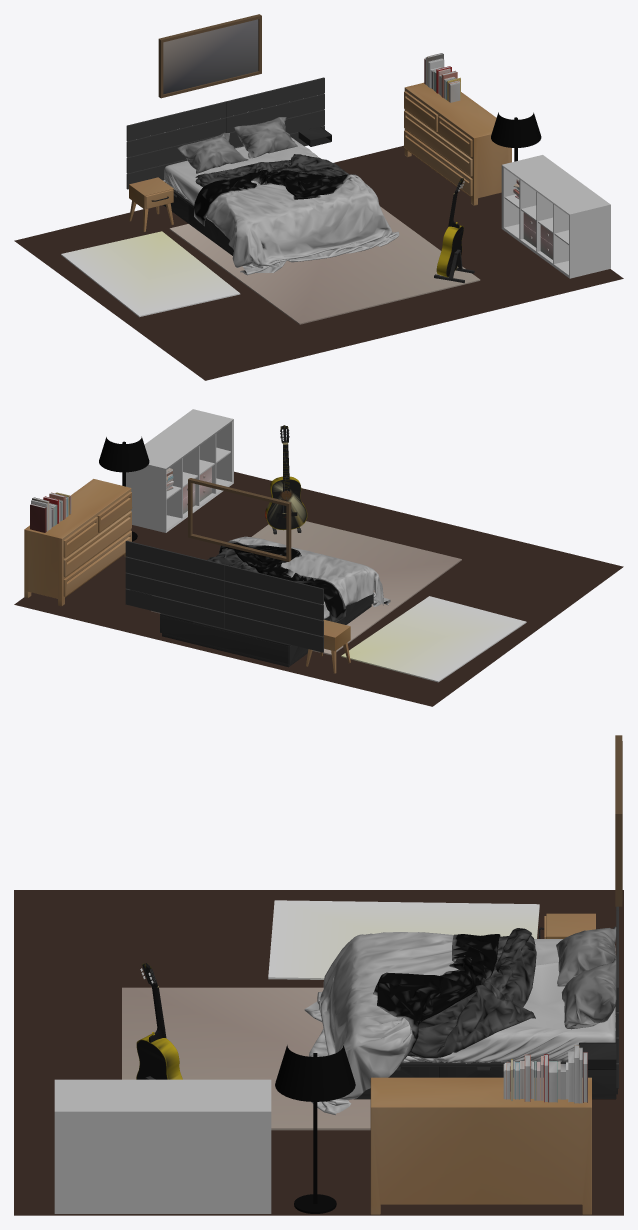
Rendered from souvenir.glb.
3 views of the same model, one above another, from view 1: azimuth 30°, elevation 25°; view 2: azimuth 150°, elevation 25°; view 3: azimuth 270°, elevation 25° (orthographic). The views are drawn at different scales.
Parts seen in each view (by area): view 1: tapis2; view 2: tapis2; view 3: tapis2.
Part boxes in pixels (x1=…): tapis2: x1=14, y1=14, x2=623, y2=380; tapis2: x1=14, y1=409, x2=623, y2=706; tapis2: x1=14, y1=735, x2=623, y2=1215.
Size of the model in its own units: 5.93 by 2.22 by 4.6.
